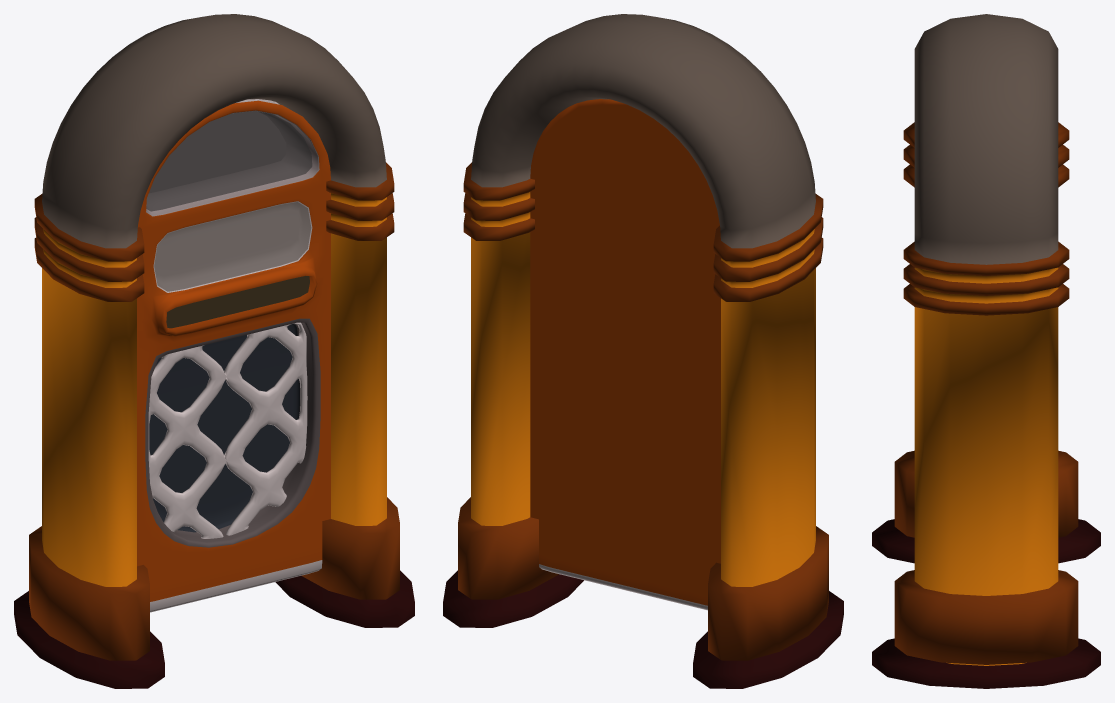
Rendered from Jukebox_Base.glb.
The picture shows the model from 3 angles, left to right: view 1: azimuth 30°, elevation 25°; view 2: azimuth 150°, elevation 25°; view 3: azimuth 270°, elevation 25°; orthographic projection. The views are drawn at different scales.
Visible parts, largest first — view 1: JukeBox_Base; view 2: JukeBox_Base; view 3: JukeBox_Base.
Part boxes in pixels (left/top/right/bottom): JukeBox_Base: left=14, top=14, right=414, bottom=688; JukeBox_Base: left=443, top=14, right=843, bottom=688; JukeBox_Base: left=872, top=14, right=1100, bottom=688.
Size of what is drawn, in the model's own units: 2.43 by 3.91 by 1.41.
3 materials, 3 textured.
